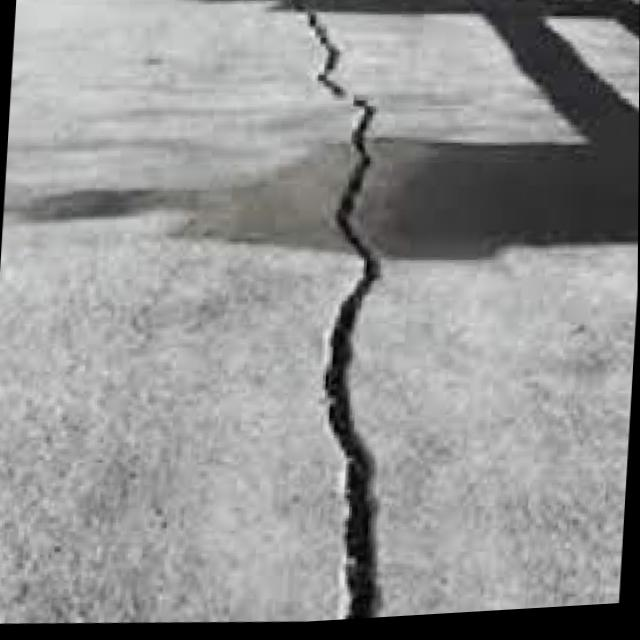Crack: (255, 0, 432, 628)
